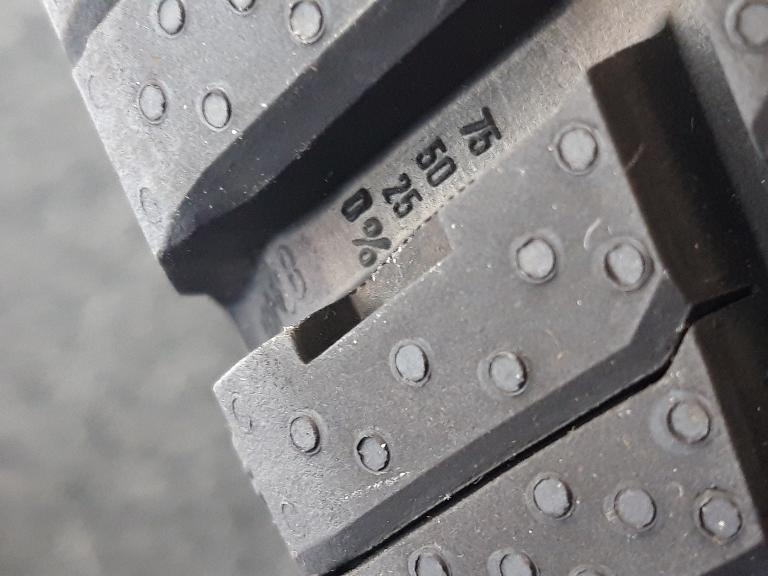temoin:100: (282, 176, 492, 377)
